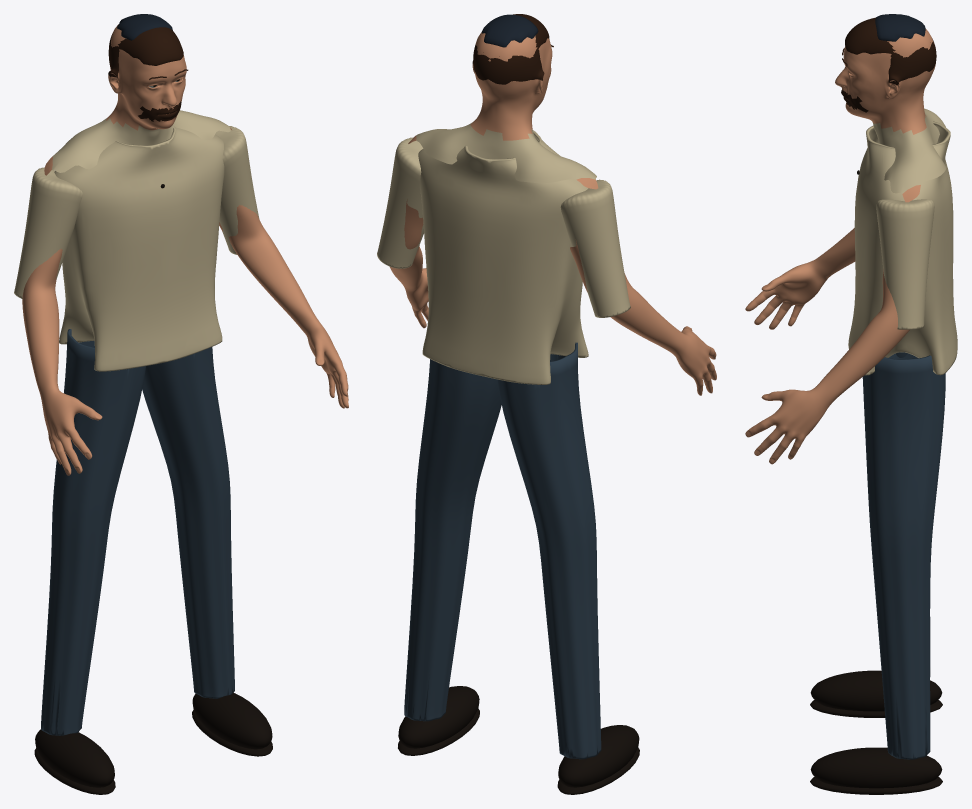
The model's file is noam.glb.
3 renders of one model, left to right at view 1: azimuth 30°, elevation 25°; view 2: azimuth 150°, elevation 25°; view 3: azimuth 270°, elevation 25°, orthographic.
Visible parts, largest first — view 1: Noam l linen sleeve, Noam l trouser leg, Noam anatomy, Noam shoe sole, Noam eyebrow, Noam kippah; view 2: Noam l trouser leg, Noam l linen sleeve, Noam anatomy, Noam shoe sole, Noam eyebrow, Noam kippah; view 3: Noam l trouser leg, Noam anatomy, Noam l linen sleeve, Noam shoe sole, Noam eyebrow, Noam kippah.
Part boxes in pixels (bbox=[...]): Noam l linen sleeve: bbox=[14, 126, 259, 371]; Noam l trouser leg: bbox=[41, 329, 234, 735]; Noam anatomy: bbox=[22, 24, 348, 475]; Noam shoe sole: bbox=[34, 184, 272, 794]; Noam eyebrow: bbox=[108, 27, 188, 79]; Noam kippah: bbox=[117, 14, 172, 40]; Noam l trouser leg: bbox=[404, 342, 601, 759]; Noam l linen sleeve: bbox=[377, 130, 630, 384]; Noam anatomy: bbox=[390, 32, 716, 395]; Noam shoe sole: bbox=[398, 686, 639, 794]; Noam eyebrow: bbox=[472, 14, 553, 84]; Noam kippah: bbox=[481, 14, 538, 47]; Noam l trouser leg: bbox=[862, 352, 945, 759]; Noam anatomy: bbox=[745, 29, 946, 464]; Noam l linen sleeve: bbox=[848, 121, 957, 375]; Noam shoe sole: bbox=[810, 170, 942, 794]; Noam eyebrow: bbox=[842, 17, 936, 85]; Noam kippah: bbox=[875, 14, 925, 41].
Bounding box in the file's own units: 0.7345 × 1.79 × 0.4698.
